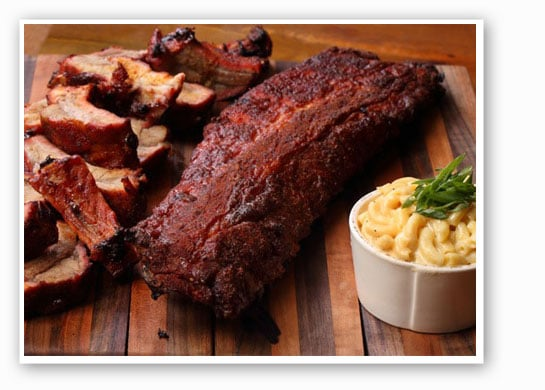soup: (105, 44, 453, 321)
sushi: (348, 156, 476, 334)
